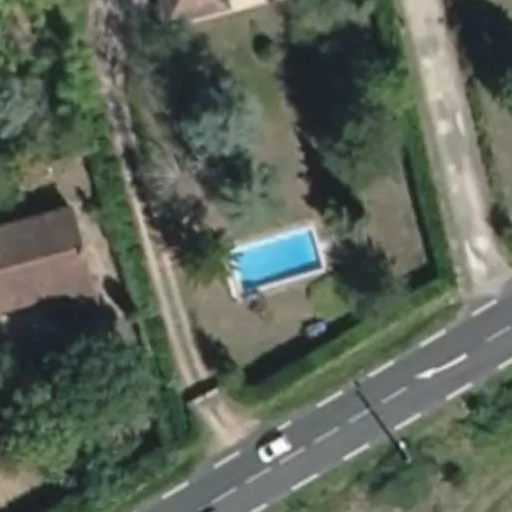pool: (209, 232, 302, 251)
